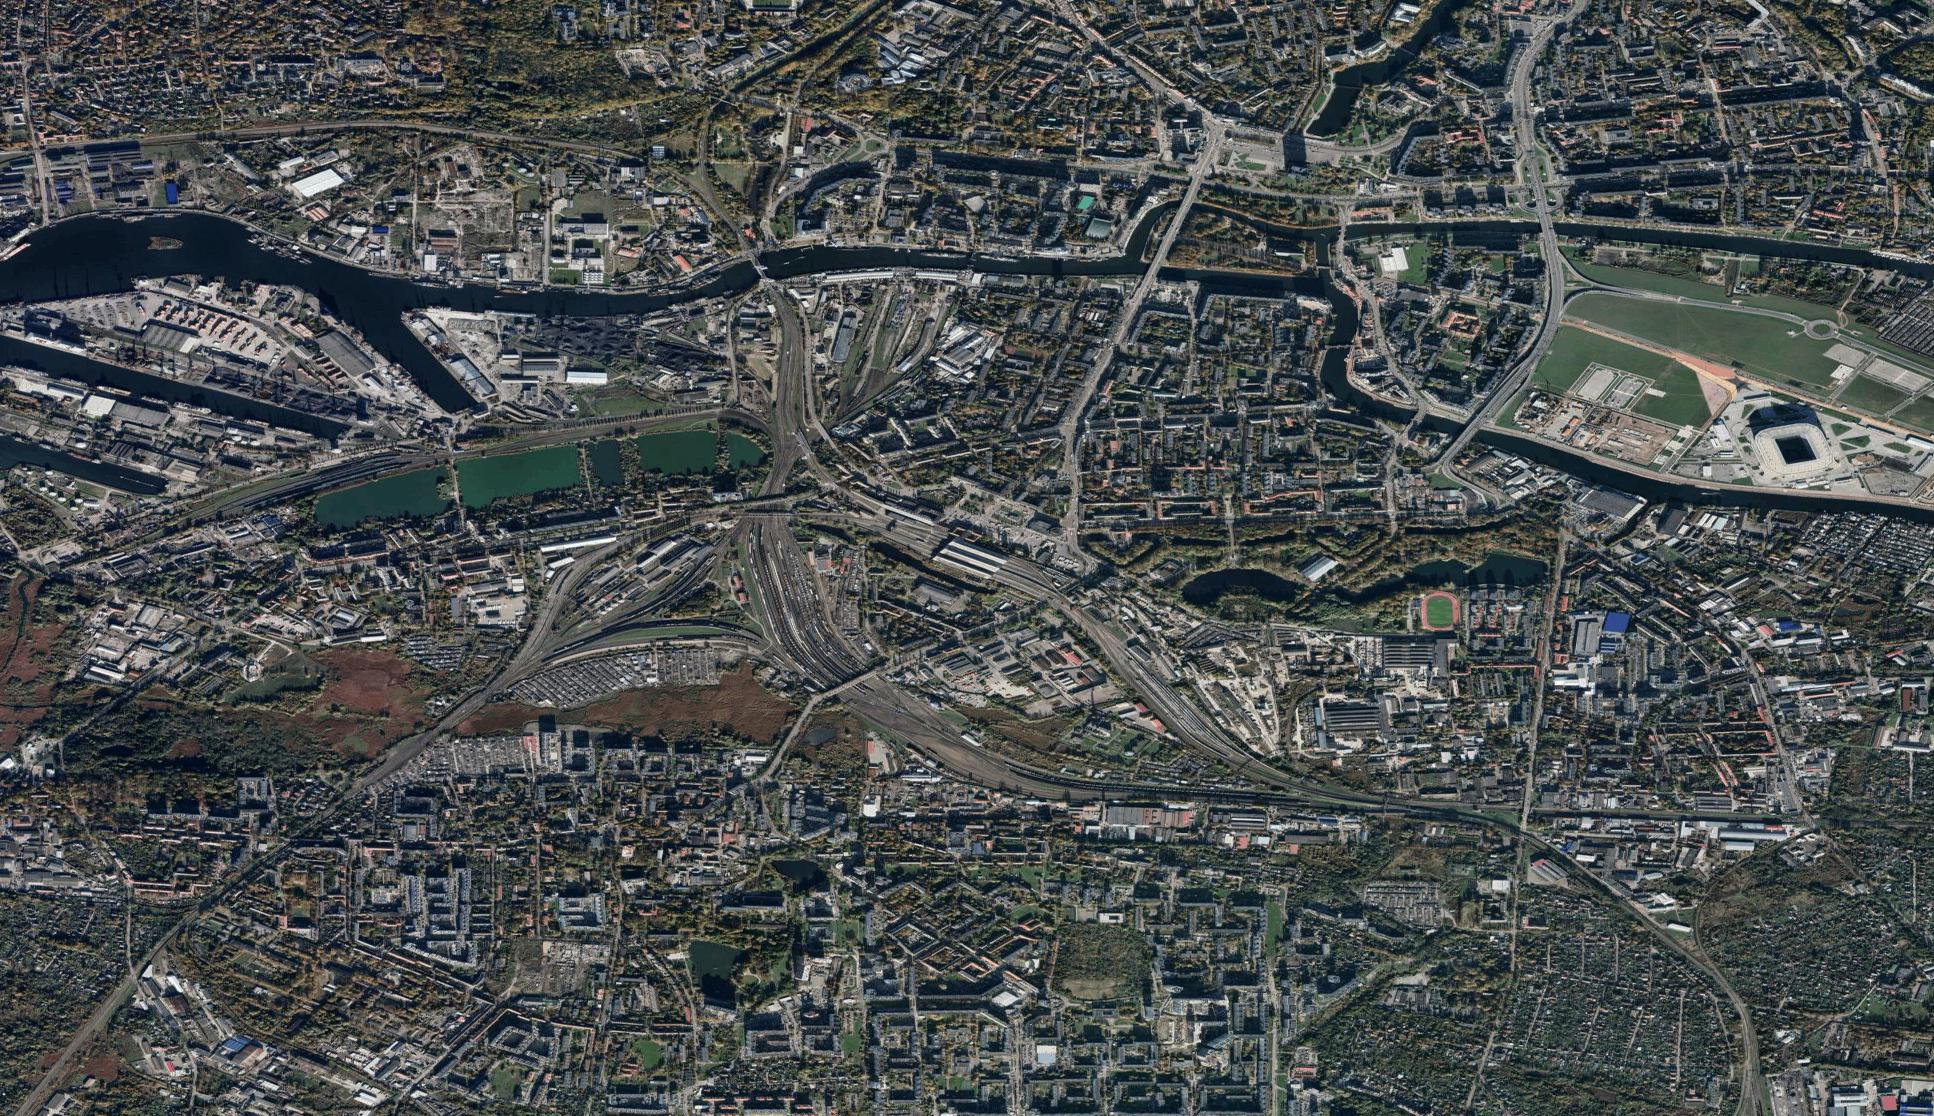bridge: (824, 666, 881, 712), (574, 442, 599, 494), (444, 458, 464, 509), (750, 254, 778, 290), (739, 494, 792, 511), (1457, 418, 1486, 442), (1335, 218, 1354, 244), (1145, 256, 1160, 290), (1536, 221, 1559, 239), (1405, 407, 1424, 429), (1177, 197, 1197, 217)
harbor: (1, 201, 501, 426), (634, 264, 733, 314), (917, 248, 1029, 270)
train_station: (549, 515, 737, 658), (871, 504, 1048, 598)
